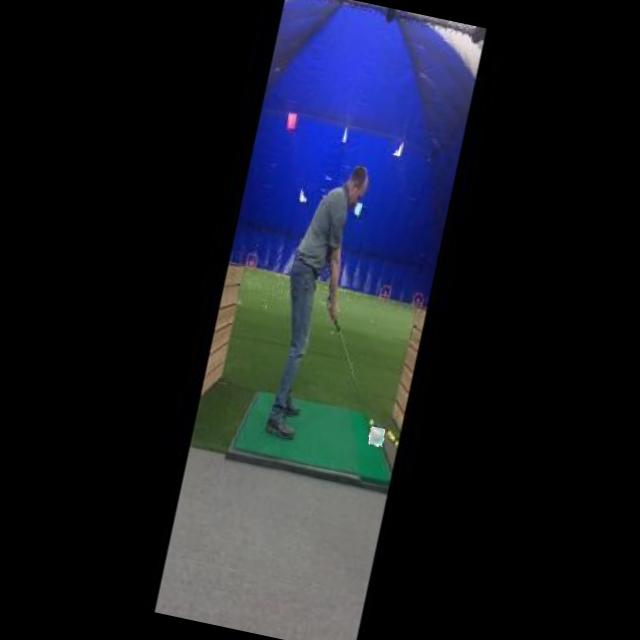club head: (367, 426, 385, 447)
